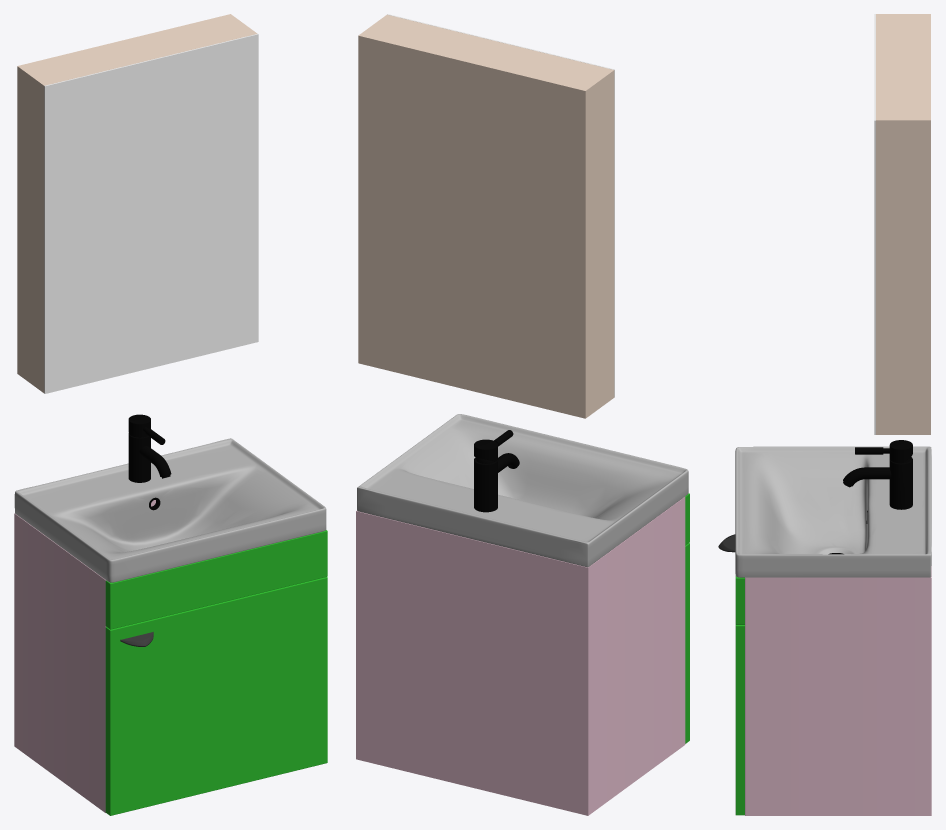
Rendered from ADONIS.glb.
3 views of the same model, side by side, from view 1: azimuth 30°, elevation 25°; view 2: azimuth 150°, elevation 25°; view 3: azimuth 270°, elevation 25° (orthographic). The views are drawn at different scales.
Parts seen in each view (by area): view 1: ayna, kapak, lavabo, alt dolap, üst dolap, musluk; view 2: üst dolap, alt dolap, lavabo, musluk, kapak, ayna; view 3: alt dolap, lavabo, üst dolap, musluk, kapak, ayna.
Part boxes in pixels (x1=…): ayna: x1=44, y1=33, x2=258, y2=393; kapak: x1=105, y1=530, x2=327, y2=815; lavabo: x1=14, y1=438, x2=326, y2=582; alt dolap: x1=14, y1=500, x2=155, y2=812; üst dolap: x1=17, y1=14, x2=257, y2=392; musluk: x1=120, y1=414, x2=171, y2=646; üst dolap: x1=358, y1=14, x2=614, y2=418; alt dolap: x1=356, y1=497, x2=685, y2=815; lavabo: x1=357, y1=414, x2=688, y2=567; musluk: x1=474, y1=430, x2=519, y2=512; kapak: x1=685, y1=493, x2=689, y2=743; ayna: x1=387, y1=14, x2=614, y2=397; alt dolap: x1=745, y1=566, x2=931, y2=815; lavabo: x1=735, y1=446, x2=931, y2=577; üst dolap: x1=876, y1=14, x2=930, y2=434; musluk: x1=718, y1=440, x2=912, y2=554; kapak: x1=735, y1=575, x2=744, y2=815; ayna: x1=874, y1=14, x2=875, y2=434.
Bounding box in the file's own units: 0.5004 × 1.49 × 0.4149.
